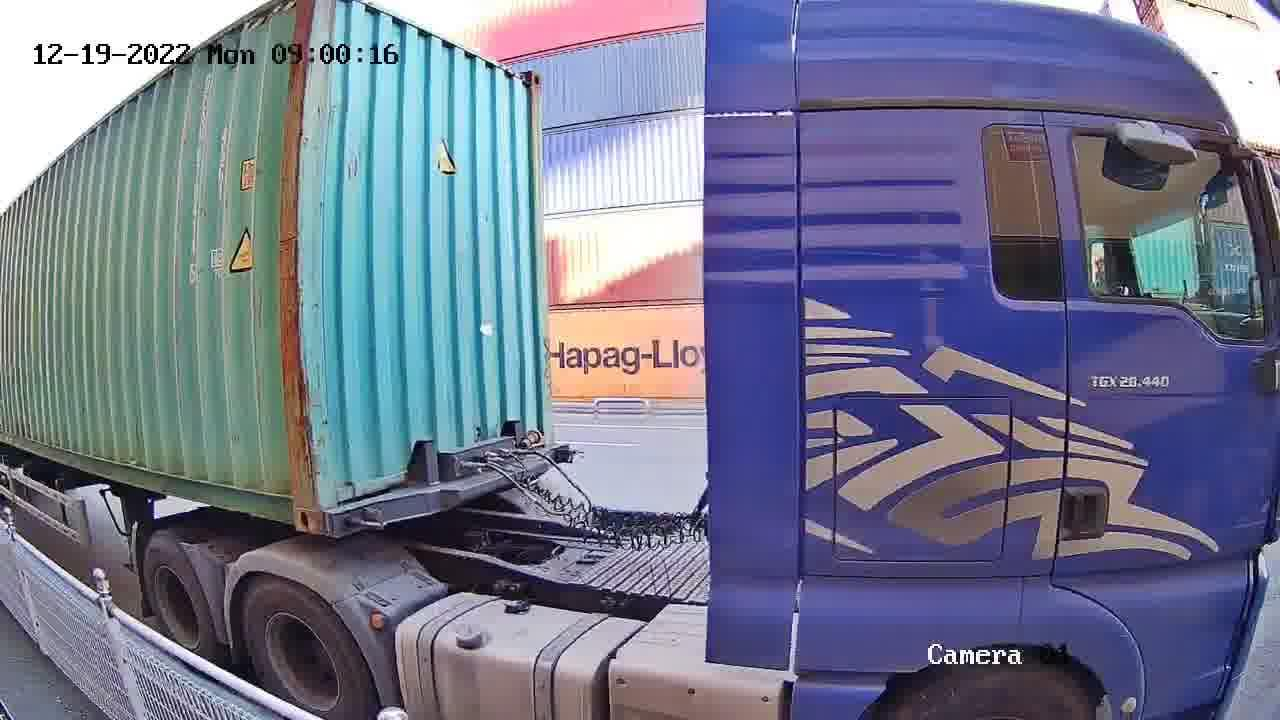Chassis: (324, 440, 571, 537)
Hole_R: (269, 473, 321, 531)
Tire: (240, 582, 364, 717), (142, 538, 215, 656)
